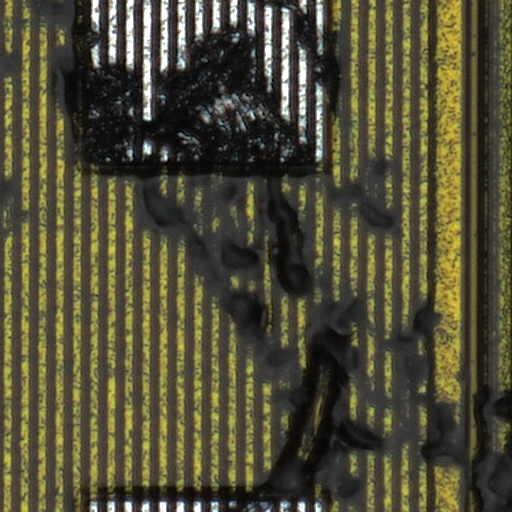SCRATCH: (17, 1, 512, 512)
